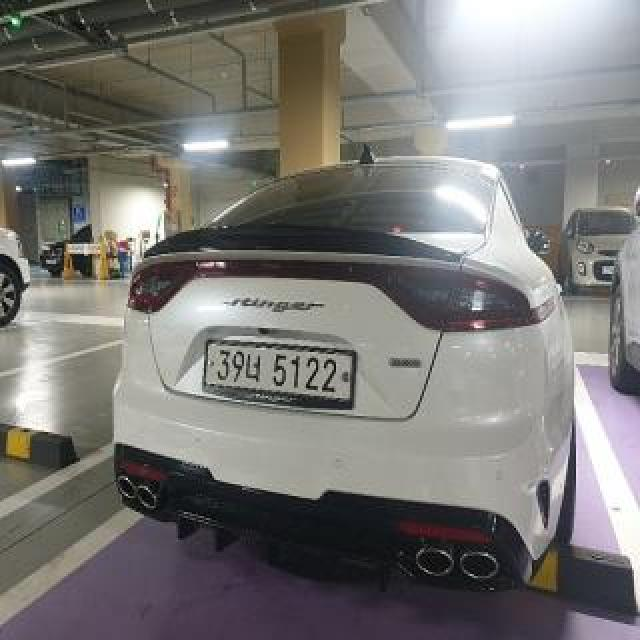car: (106, 140, 583, 600)
illegal_plate: (207, 333, 357, 414)
